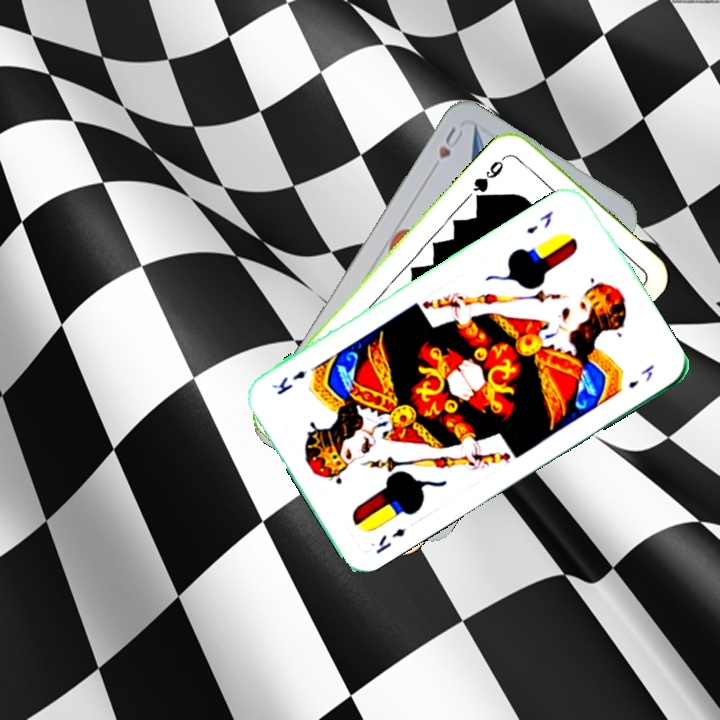EK: (371, 523, 408, 557), (522, 206, 557, 237)
G9: (469, 150, 512, 201)
HU: (434, 122, 466, 162)
